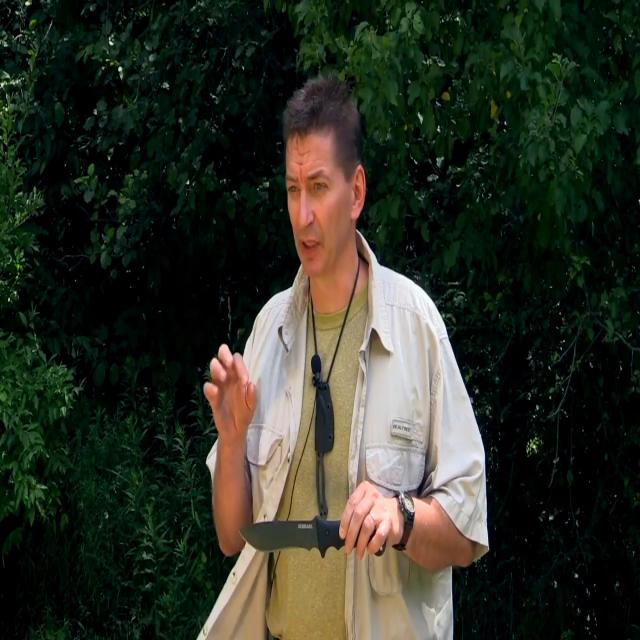knife: (236, 517, 340, 561)
